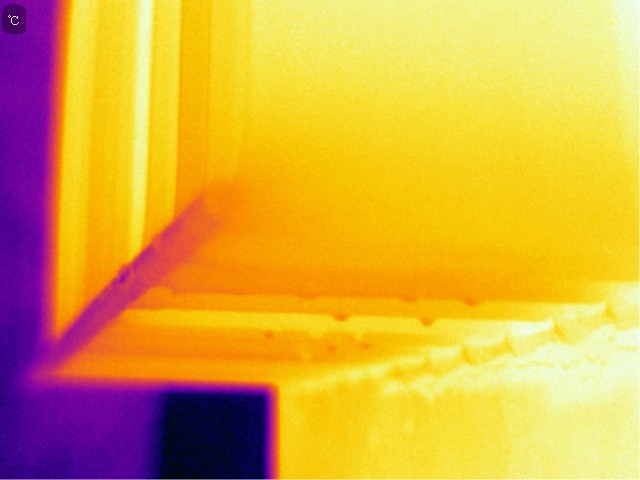Oil: (331, 309, 353, 326), (414, 314, 438, 329), (459, 295, 484, 307), (399, 293, 424, 304), (261, 329, 278, 341)
